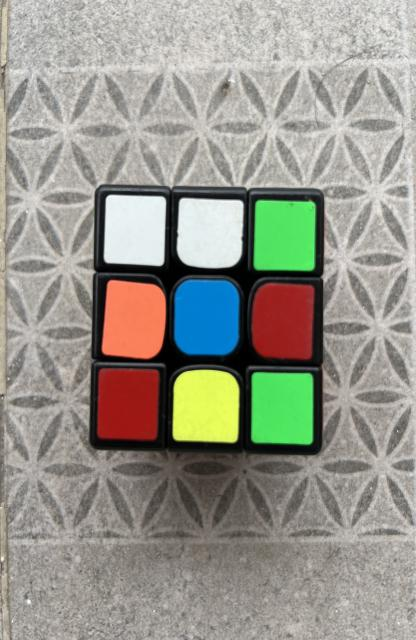Blue: (173, 279, 239, 355)
Green: (250, 372, 314, 445), (254, 200, 316, 271)
Orange: (102, 280, 166, 359)
Red: (251, 282, 315, 360), (96, 369, 159, 441)
White: (177, 198, 244, 269), (103, 194, 166, 266)
Yellow: (172, 370, 239, 444)
